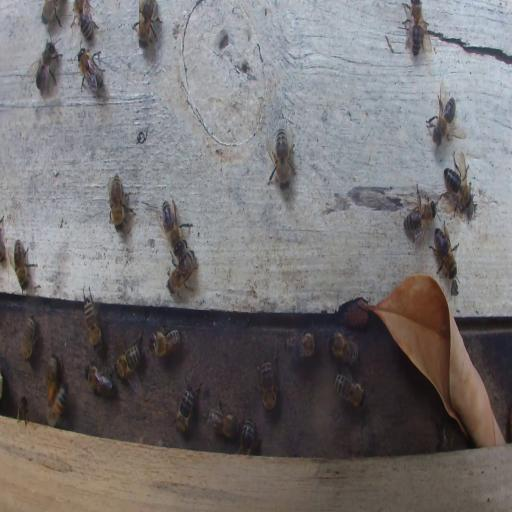bee: (403, 182, 437, 245), (160, 194, 192, 258), (426, 81, 458, 145), (443, 152, 472, 216), (432, 220, 459, 280), (400, 0, 428, 57), (34, 38, 62, 95), (107, 172, 134, 230), (269, 128, 294, 189), (75, 46, 105, 94), (82, 284, 102, 353), (206, 396, 237, 440), (132, 0, 161, 47), (168, 250, 196, 296), (115, 336, 142, 379), (333, 372, 365, 408), (46, 384, 69, 434), (175, 386, 199, 433), (284, 329, 317, 362), (328, 330, 359, 364), (258, 358, 277, 412), (150, 325, 182, 357), (85, 363, 115, 396), (72, 0, 96, 40), (13, 239, 30, 294), (40, 0, 64, 29), (237, 420, 256, 456), (21, 313, 35, 360), (436, 424, 454, 452), (17, 396, 29, 426), (48, 350, 58, 382)
